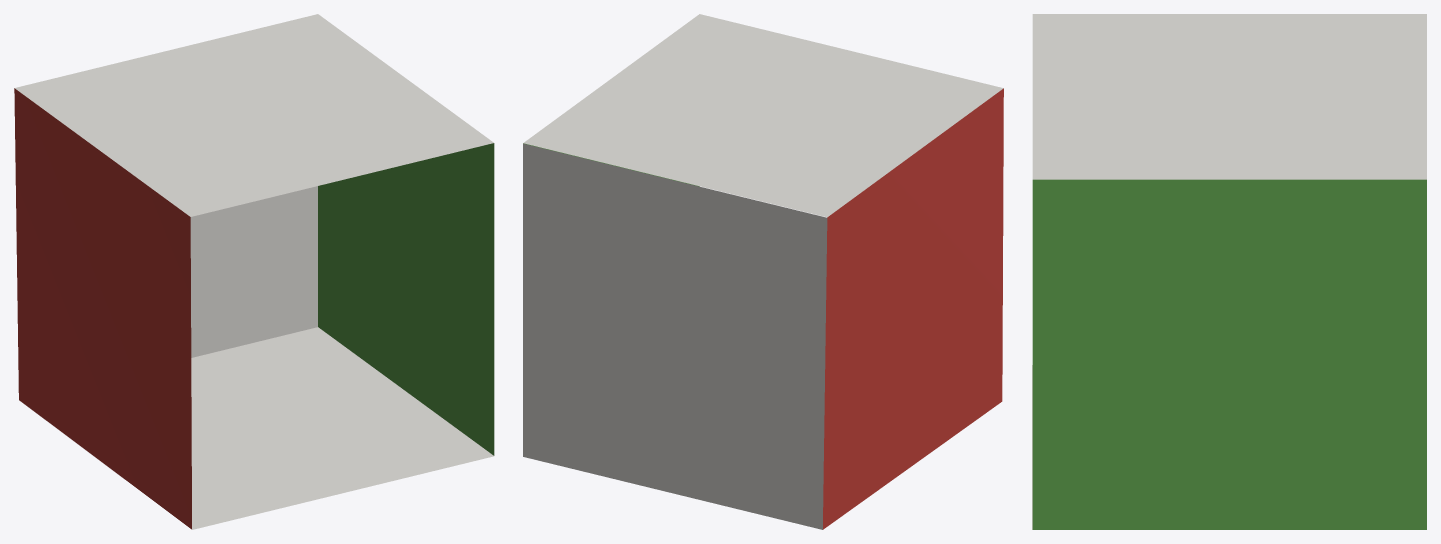
The model's file is cornell.glb.
3 renders of one model, left to right at view 1: azimuth 30°, elevation 25°; view 2: azimuth 150°, elevation 25°; view 3: azimuth 270°, elevation 25°, orthographic. The views are drawn at different scales.
Visible parts, largest first — view 1: Object_5, Object_3, Object_7, Object_4, Object_2; view 2: Object_2, Object_5, Object_3; view 3: Object_7, Object_3.
Part boxes in pixels (bbox=[...]): Object_5: bbox=[14, 88, 191, 529]; Object_3: bbox=[15, 14, 493, 216]; Object_7: bbox=[318, 143, 494, 455]; Object_4: bbox=[191, 327, 493, 529]; Object_2: bbox=[190, 186, 317, 357]; Object_2: bbox=[523, 143, 827, 529]; Object_5: bbox=[823, 88, 1003, 529]; Object_3: bbox=[523, 14, 1003, 217]; Object_7: bbox=[1032, 179, 1426, 529]; Object_3: bbox=[1032, 14, 1426, 179].
Bounding box in the file's own units: 2.02 × 1.99 × 2.03.
